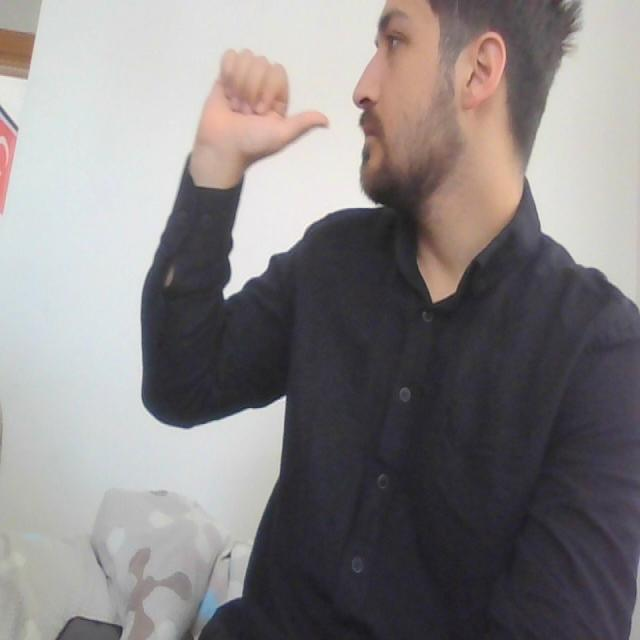icmek: (149, 36, 382, 165)
